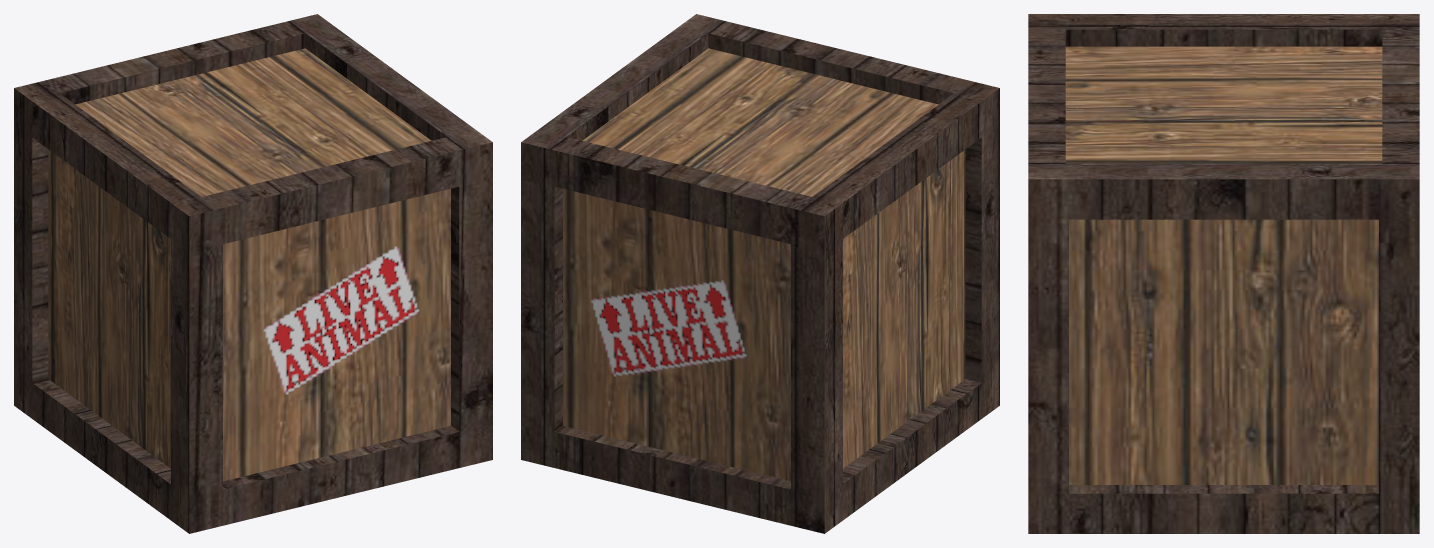
The model's file is monkeycratetest1.gltf.
3 views of the same model, side by side, from view 1: azimuth 30°, elevation 25°; view 2: azimuth 150°, elevation 25°; view 3: azimuth 270°, elevation 25° (orthographic). The views are drawn at different scales.
Visible parts, largest first — view 1: Cube; view 2: Cube; view 3: Cube.
Part boxes in pixels (x1=…): Cube: x1=14, y1=14, x2=492, y2=533; Cube: x1=521, y1=14, x2=999, y2=533; Cube: x1=1028, y1=14, x2=1419, y2=533.
Bounding box in the file's own units: 2 × 2 × 2.
1 material, 1 textured.
